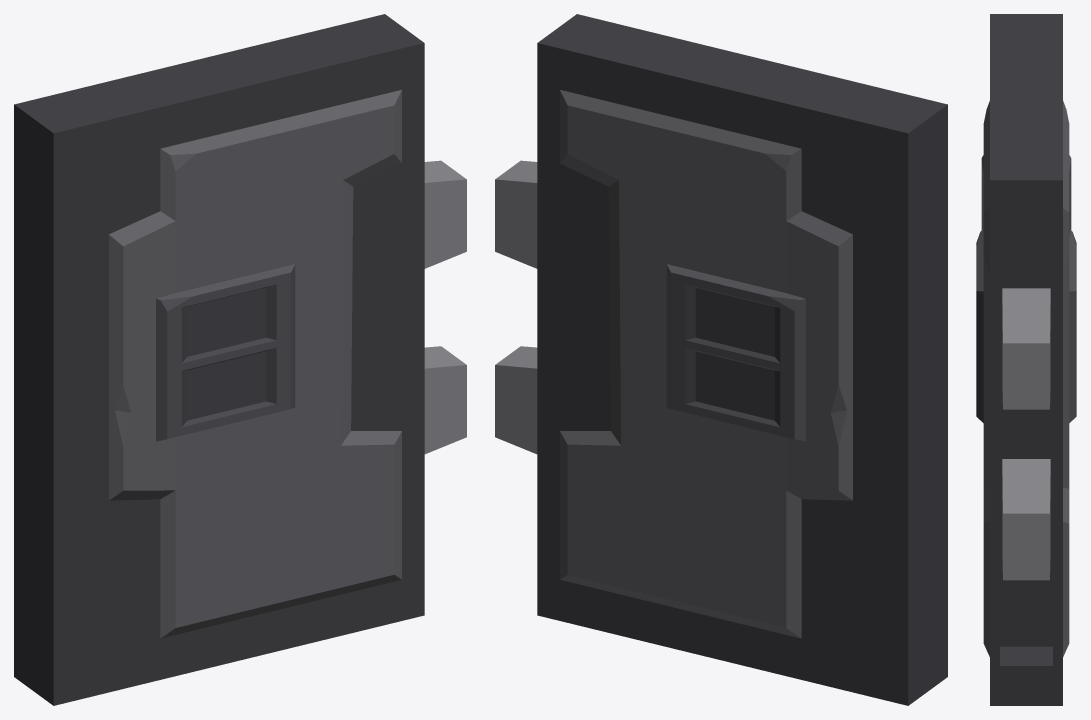
The model's file is SM_Bld_Wall_Doorframe_Door_L_05.fbx.
3 views of the same model, side by side, from view 1: azimuth 30°, elevation 25°; view 2: azimuth 150°, elevation 25°; view 3: azimuth 270°, elevation 25° (orthographic). The views are drawn at different scales.
Visible parts, largest first — view 1: SM_Bld_Wall_Doorframe_Door_L_05_LOD0; view 2: SM_Bld_Wall_Doorframe_Door_L_05_LOD0; view 3: SM_Bld_Wall_Doorframe_Door_L_05_LOD0.
Boxes of the visible parts, x1=… form: SM_Bld_Wall_Doorframe_Door_L_05_LOD0: x1=14, y1=14, x2=466, y2=705; SM_Bld_Wall_Doorframe_Door_L_05_LOD0: x1=495, y1=14, x2=947, y2=705; SM_Bld_Wall_Doorframe_Door_L_05_LOD0: x1=976, y1=14, x2=1076, y2=705.
Bounding box in the file's own units: 42.29 × 187 × 244.
1 material, 1 textured.
